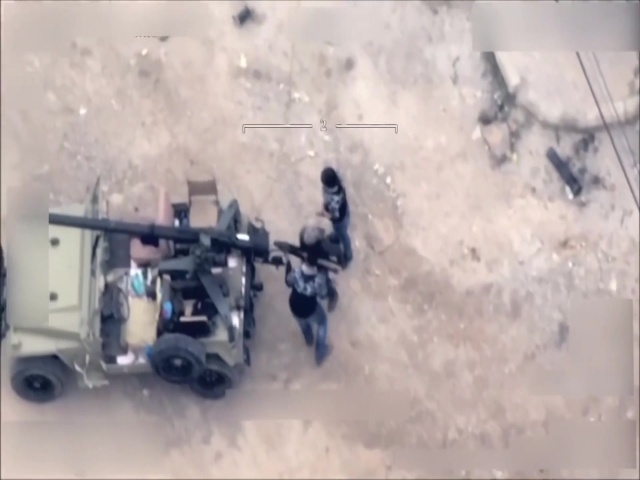person: (290, 217, 345, 315), (285, 262, 332, 367), (311, 161, 357, 261)
vehicle: (1, 177, 268, 395)
